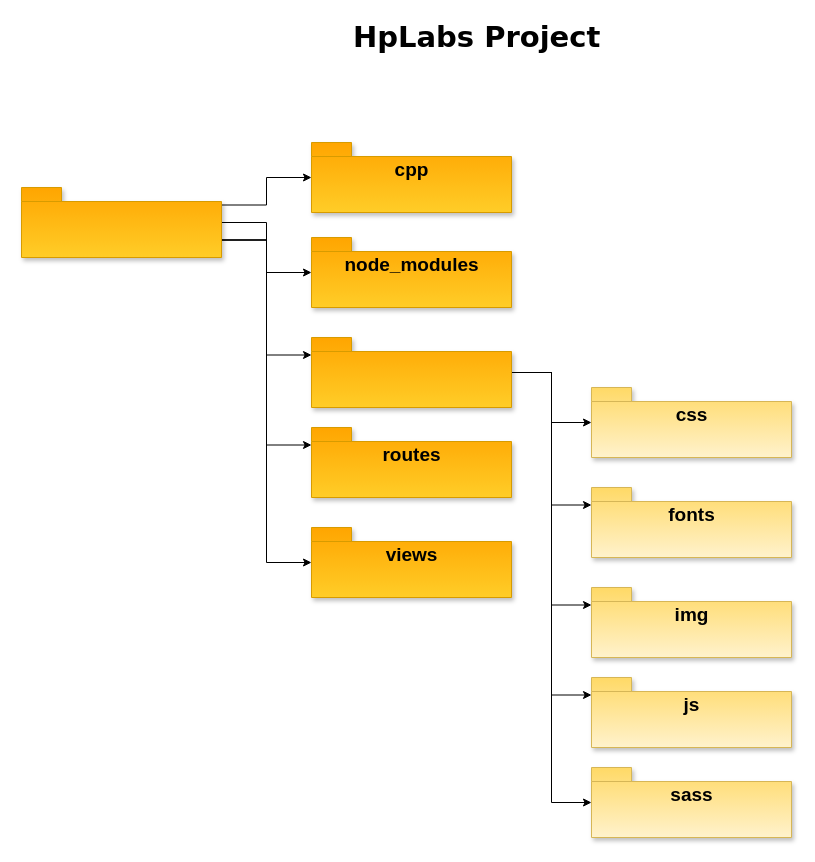
The diagram is 815 pixels wide and 862 high, and some of its shapes have lost their labels. Each missing label, with the centre of its shape:
"public" goes at (x=412, y=373).
"src" goes at (x=122, y=223).
